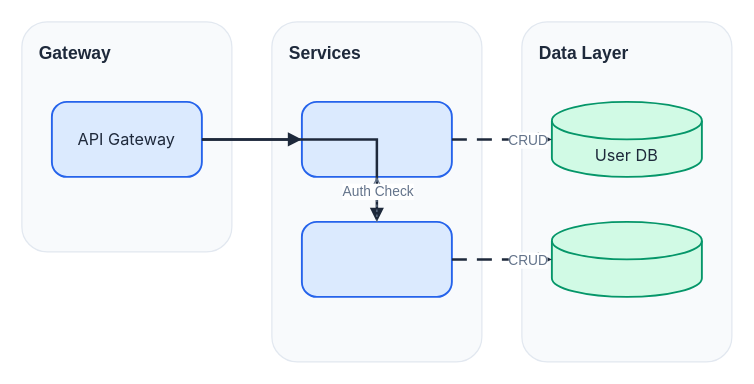
The diagram is 754 pixels wide and 384 high, and some of its shapes have lost their labels. Each missing label, with the centre of its shape:
Order DB: the point at 626,258
Order Service: the point at 376,258
User Service: the point at 376,138
